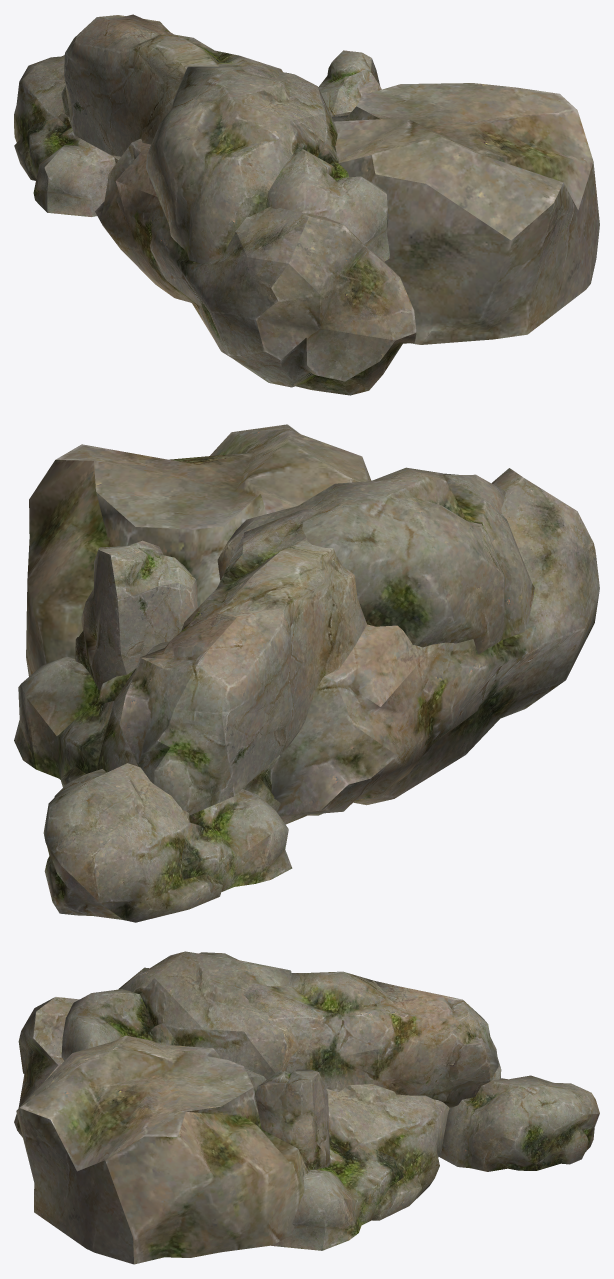
The model's file is xinshoubujian26.FBX.
3 renders of one model, top to bottom at view 1: azimuth 30°, elevation 25°; view 2: azimuth 150°, elevation 25°; view 3: azimuth 270°, elevation 25°, orthographic. The views are drawn at different scales.
Parts seen in each view (by area): view 1: Mesh_0046; view 2: Mesh_0046; view 3: Mesh_0046.
Boxes of the visible parts, <box> form: Mesh_0046: <box>14,14,599,395</box>; Mesh_0046: <box>14,424,599,922</box>; Mesh_0046: <box>14,951,599,1264</box>.
Bounding box in the file's own units: 40.36 × 25.39 × 59.7.
